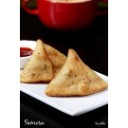samosa: (46, 49, 107, 94), (22, 38, 68, 83)
